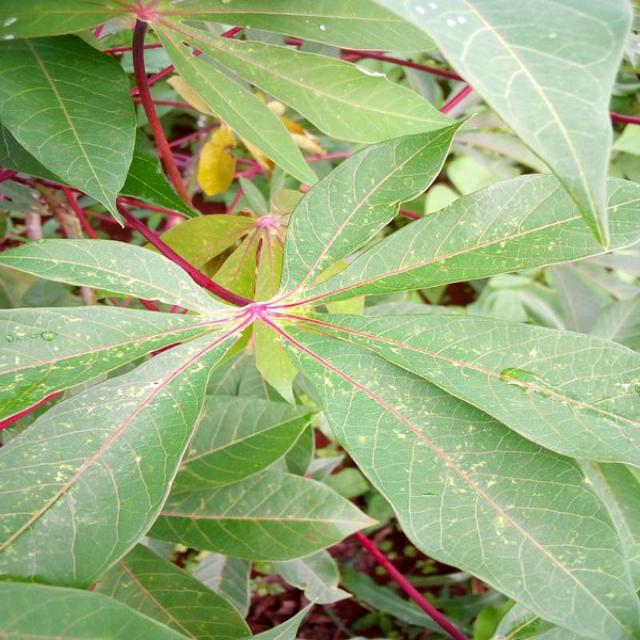cassava leaf: (0, 1, 638, 637), (277, 300, 638, 638), (0, 319, 241, 589), (375, 0, 633, 250), (0, 31, 138, 228)
